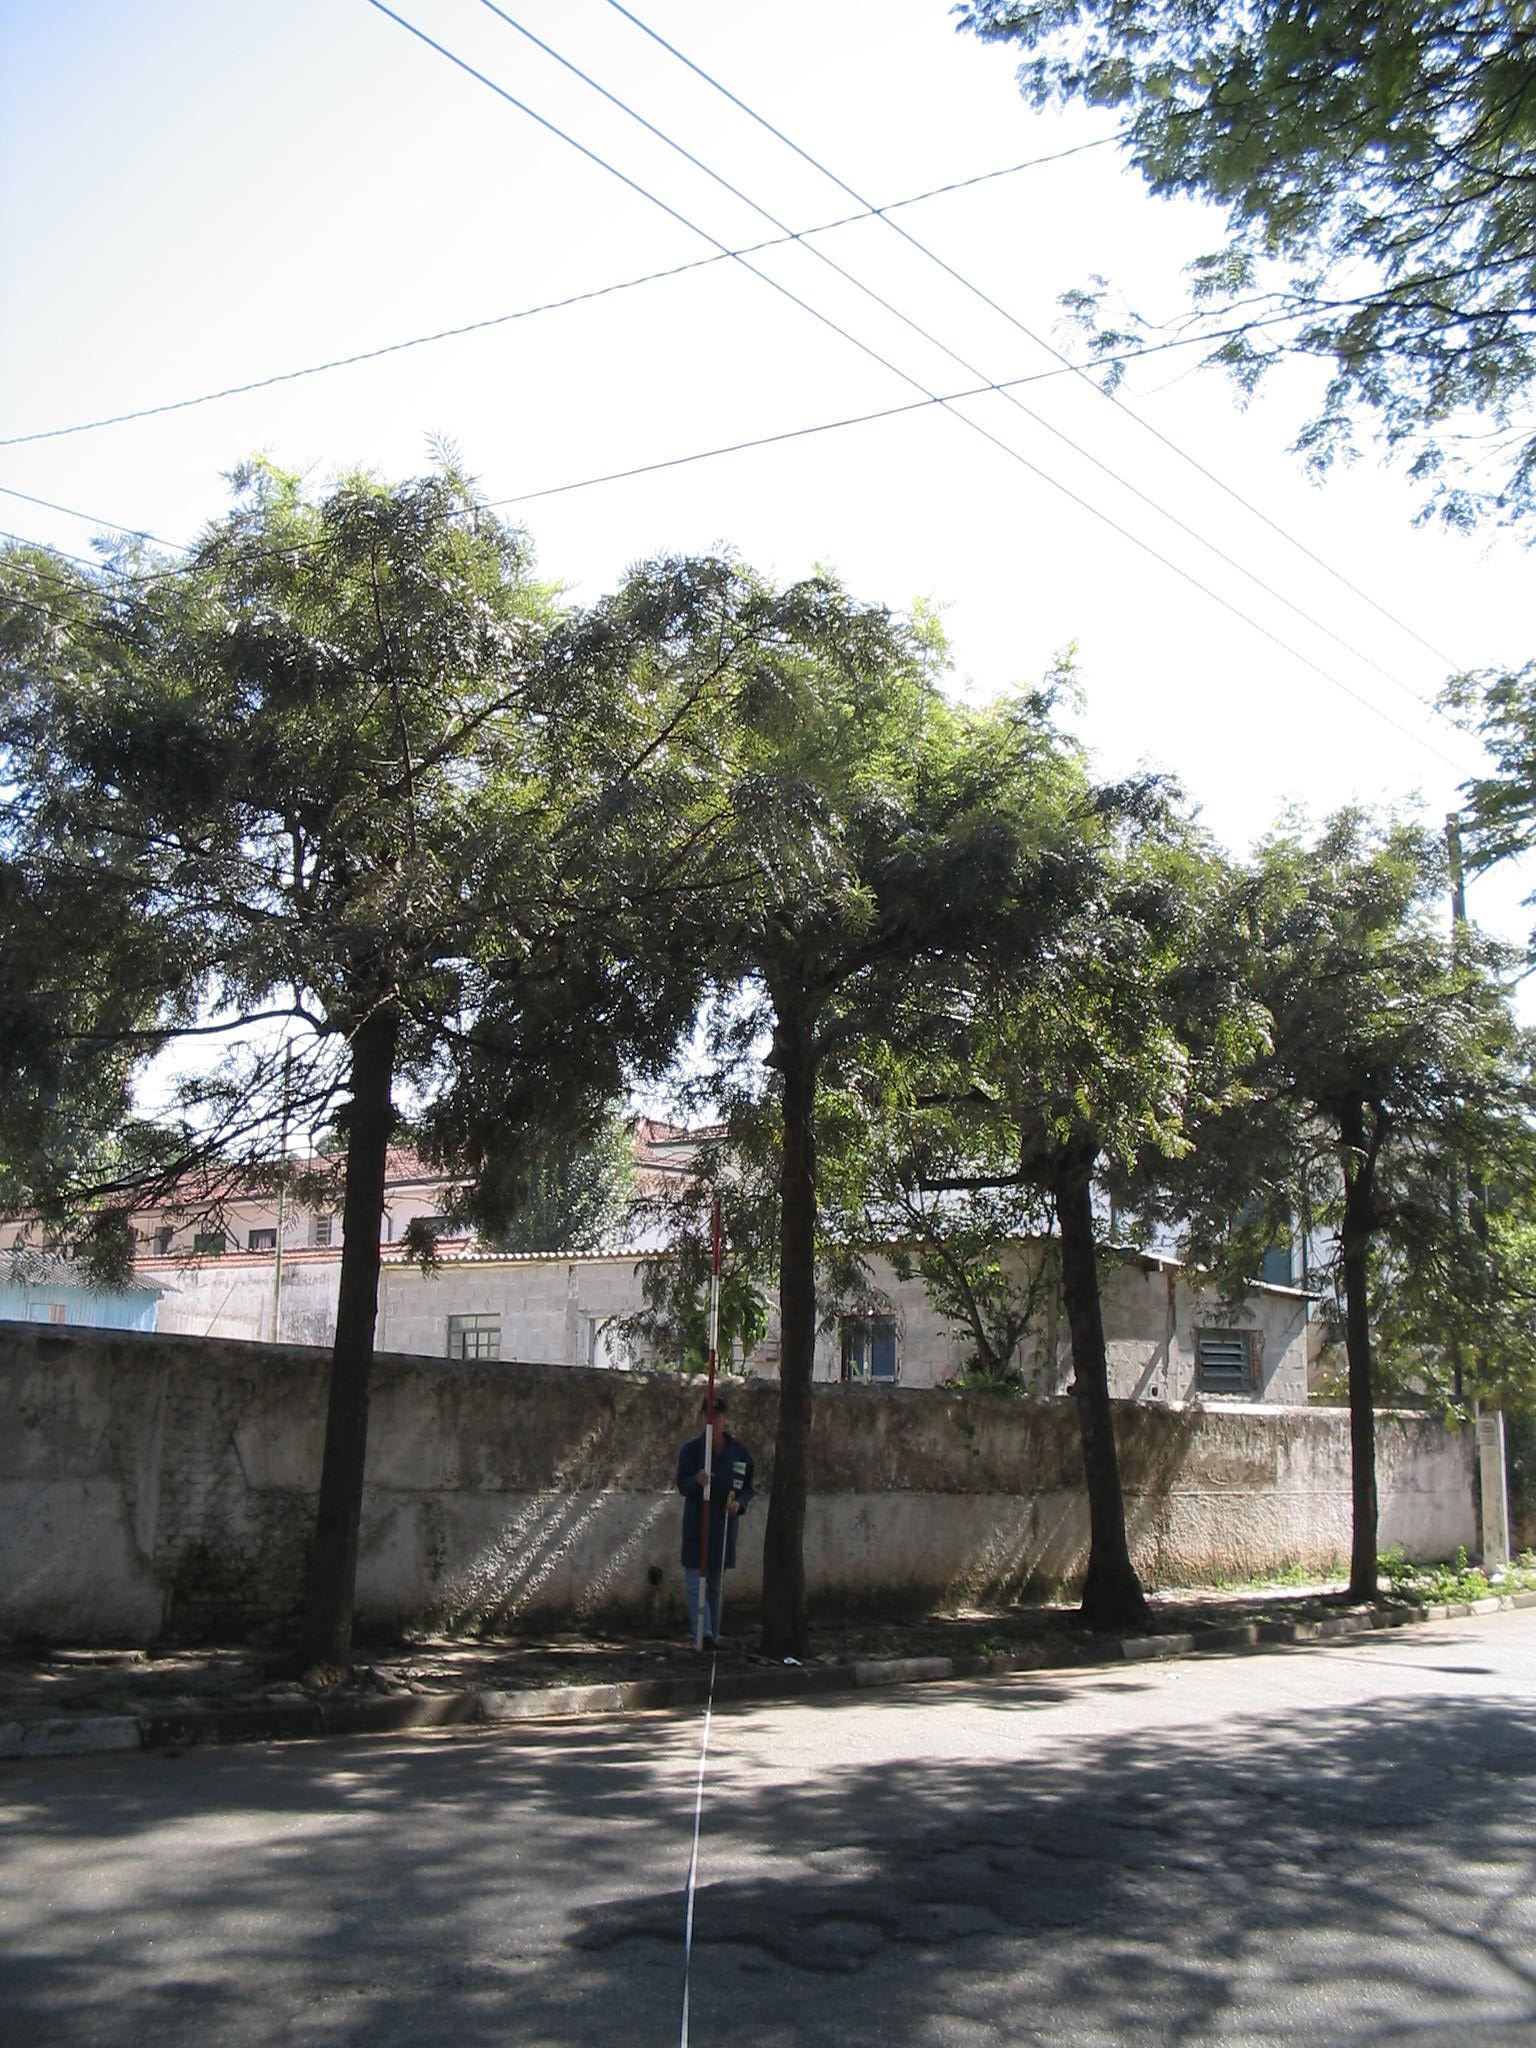crown: (24, 476, 744, 1221), (565, 555, 1037, 1042), (954, 782, 1270, 1208), (1217, 816, 1517, 1197)
stem: (273, 1053, 416, 1667), (733, 1034, 862, 1655), (1025, 1192, 1191, 1621), (1312, 1205, 1399, 1596)
stick: (666, 1187, 745, 1650)
tree: (18, 474, 750, 1674), (553, 555, 1046, 1661), (949, 774, 1271, 1625), (1207, 808, 1528, 1600)
